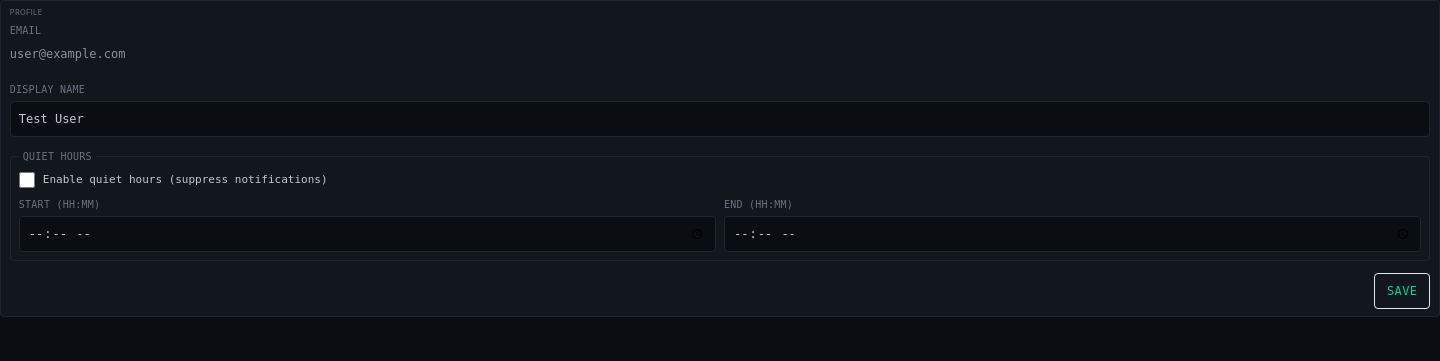
Test: Settings/Profile › Save shows success status when API resolves
This screenshot has width=1440, height=361.
Expected: the field labelled "Display name" is shown, [10, 101, 1430, 137]
Click the button "Save" at (1402, 291), box [1374, 273, 1430, 309]
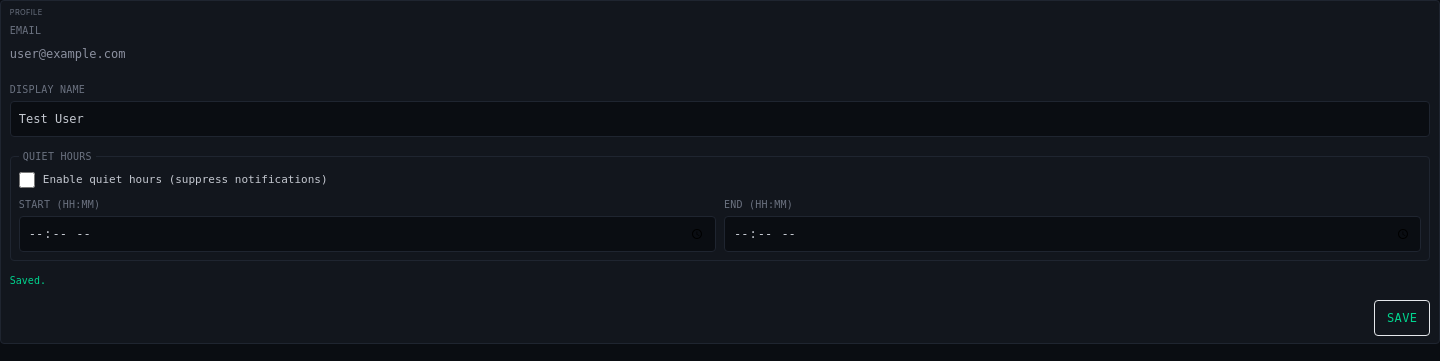
Result: the message shows "Saved" at [10, 275, 46, 286]
